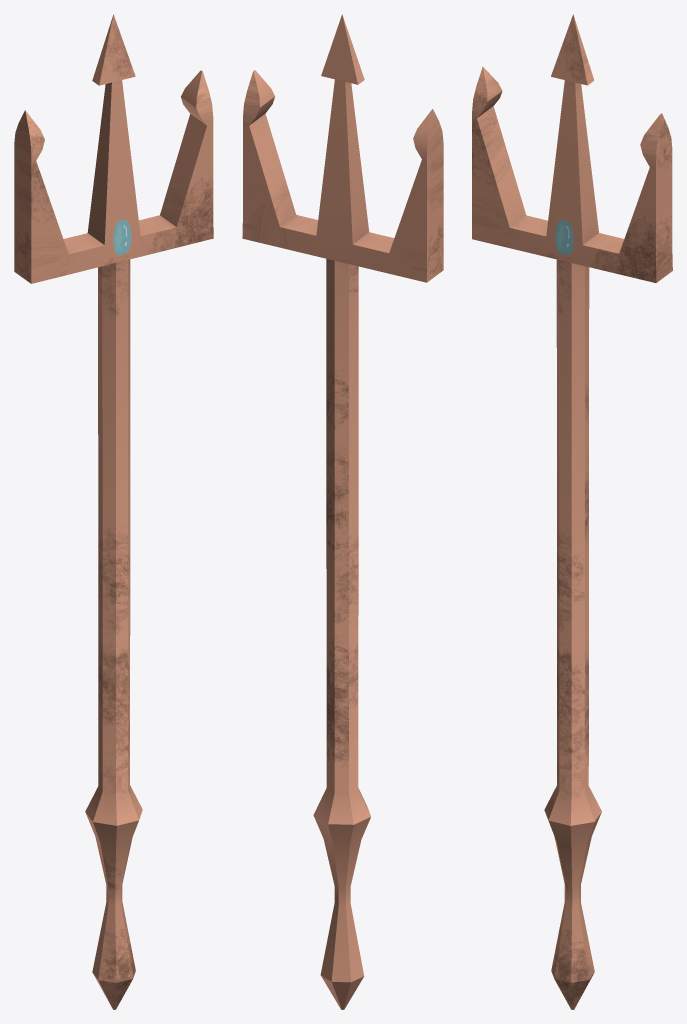
Rendered from tridente.fbx.
3 views of the same model, side by side, from view 1: azimuth 30°, elevation 25°; view 2: azimuth 150°, elevation 25°; view 3: azimuth 330°, elevation 25° (orthographic).
Visible parts, largest first — view 1: Box001; view 2: Box001; view 3: Box001.
Boxes of the visible parts, box(x1,y1,x2,y2) form: Box001: box(14, 14, 213, 1009); Box001: box(242, 14, 443, 1009); Box001: box(472, 14, 672, 1009).
Size of the model in its own units: 5.95 by 30.8 by 1.59.
